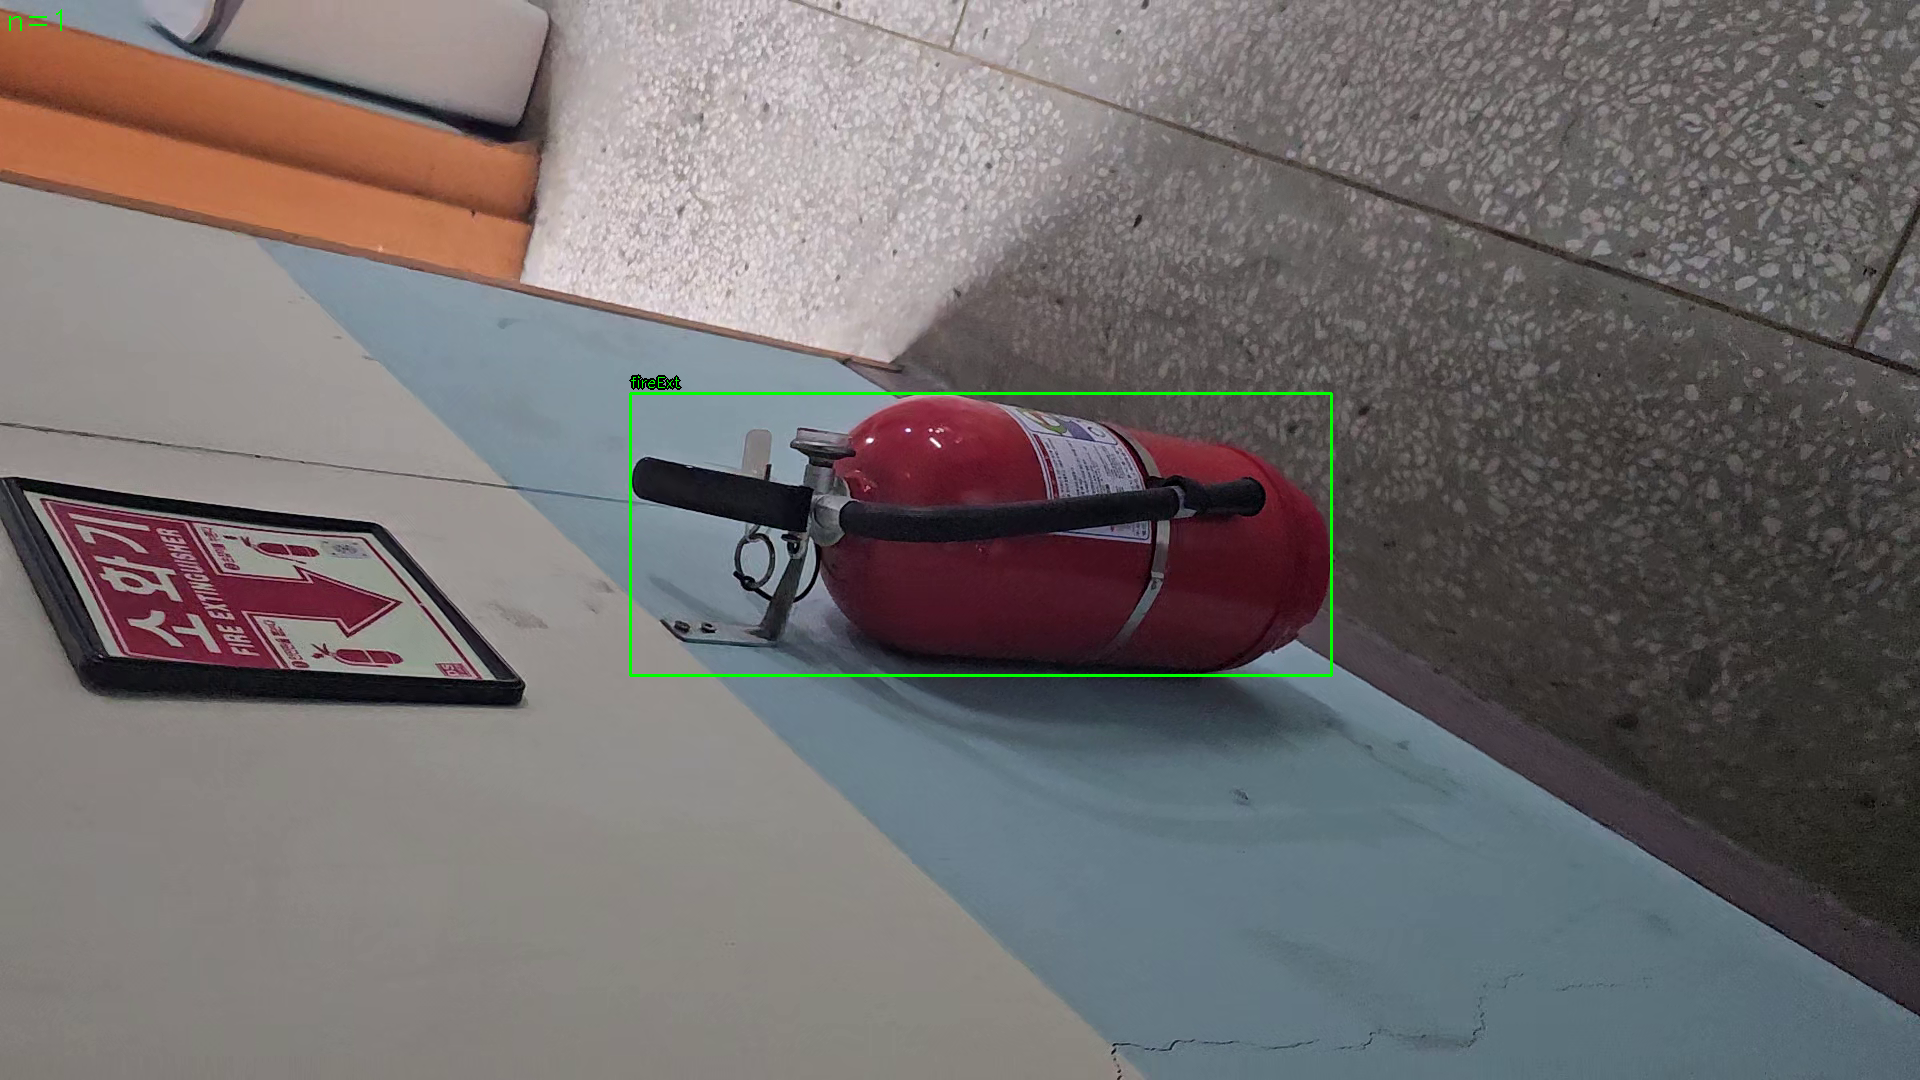lane: (630, 393, 1332, 676)
